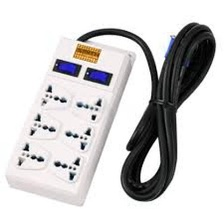three_eye_plug: (2, 32, 138, 211)
